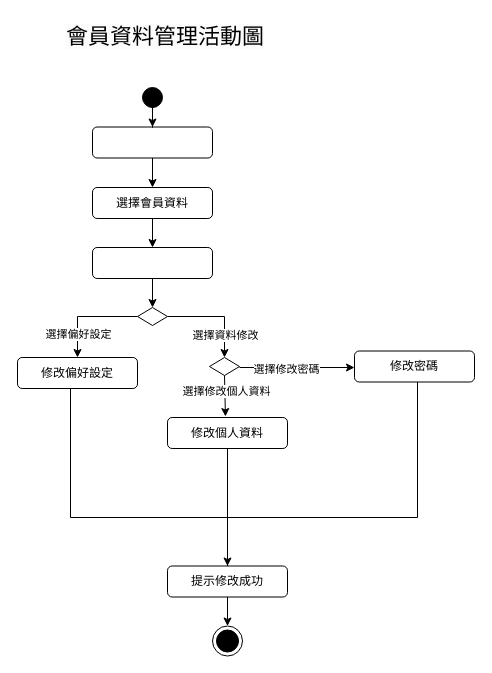
Some shapes in this 492 by 673 pixel diagram are drawn without their labels. Each missing label, with the centre of its shape:
輸入會員資料: the point at 152,262
進入會員專區頁面: the point at 152,142
